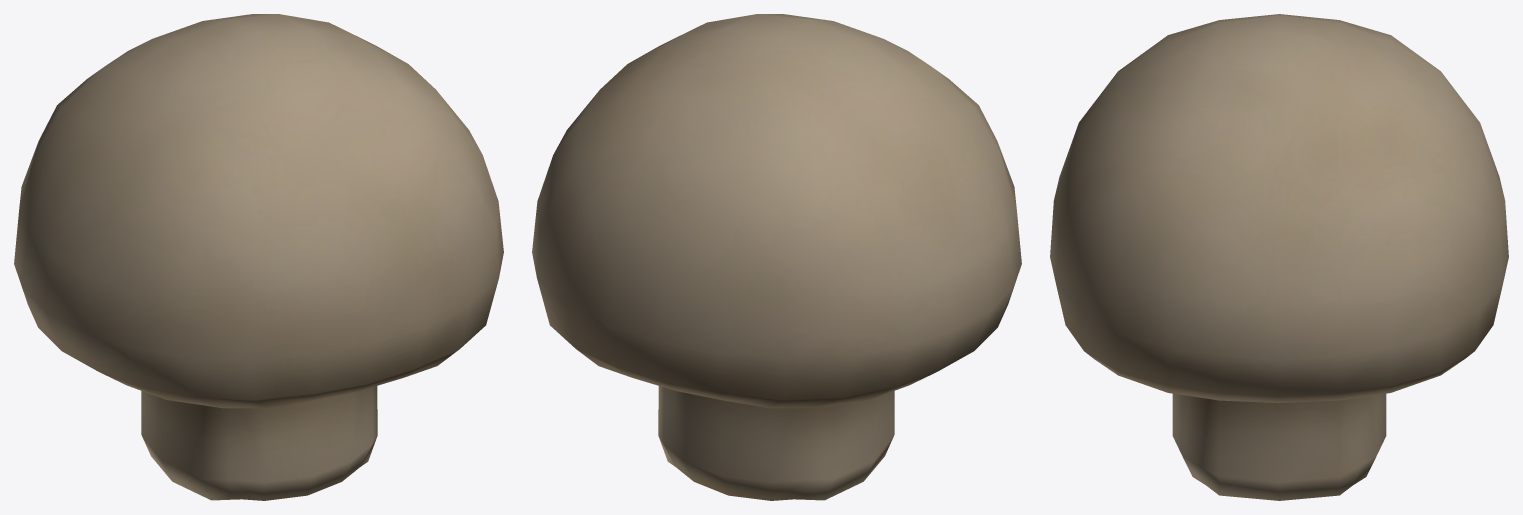
Rendered from Mushroom.glb.
3 renders of one model, left to right at view 1: azimuth 30°, elevation 25°; view 2: azimuth 150°, elevation 25°; view 3: azimuth 270°, elevation 25°, orthographic.
Visible parts, largest first — view 1: Mushroom_Whole; view 2: Mushroom_Whole; view 3: Mushroom_Whole.
Part boxes in pixels (x1,y1,x2,y2): Mushroom_Whole: [14, 14, 503, 500]; Mushroom_Whole: [532, 14, 1021, 500]; Mushroom_Whole: [1050, 14, 1508, 500].
Bounding box in the file's own units: 0.7678 × 0.75 × 0.7159.
Materials: 1 (1 with a texture image).
